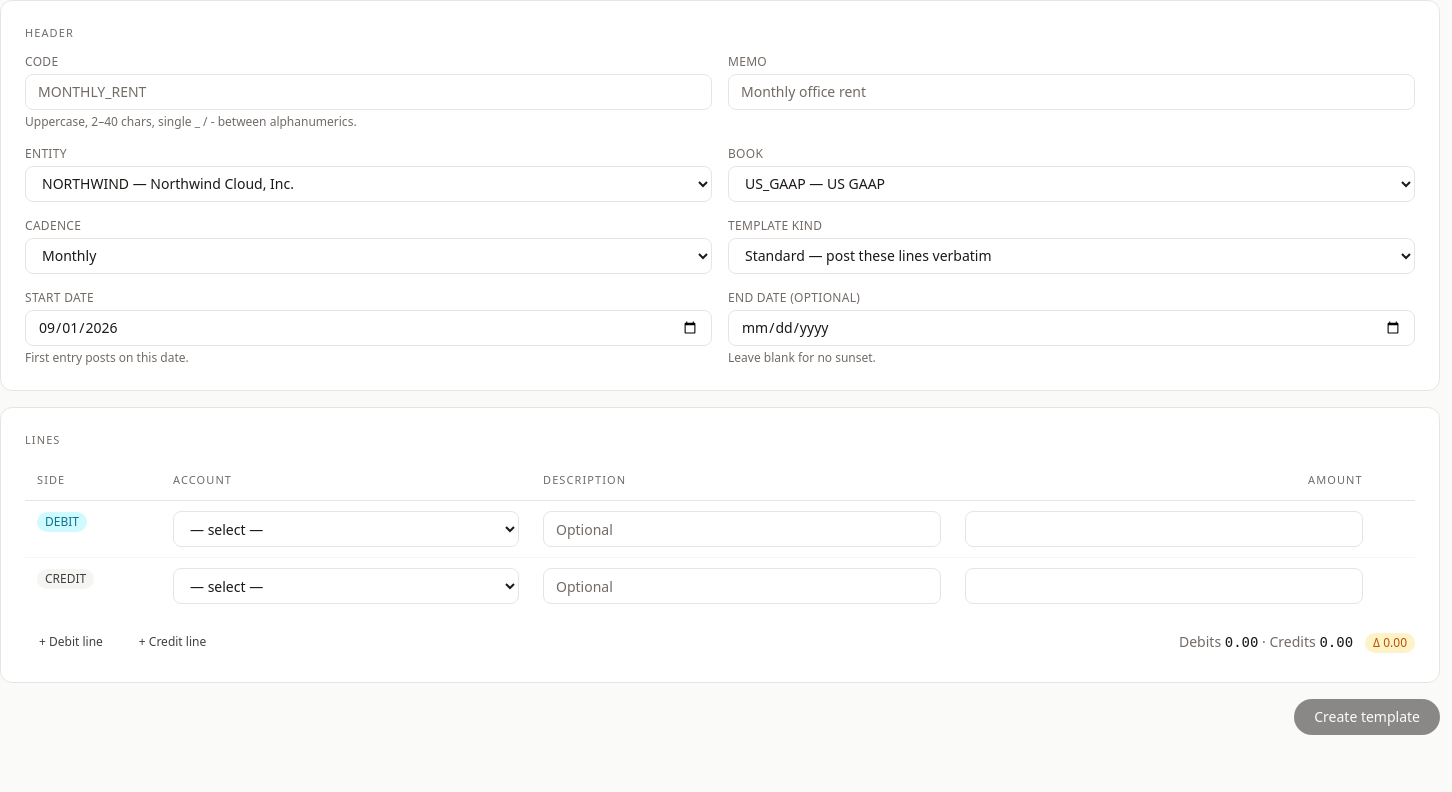
Test case: new recurring template — ALLOCATION mode › stays disabled while the percents do not total 100
Select "Allocation — split a source account by %" in the dropdown labelled "Template kind" at (1072, 256), box [728,238,1415,274]
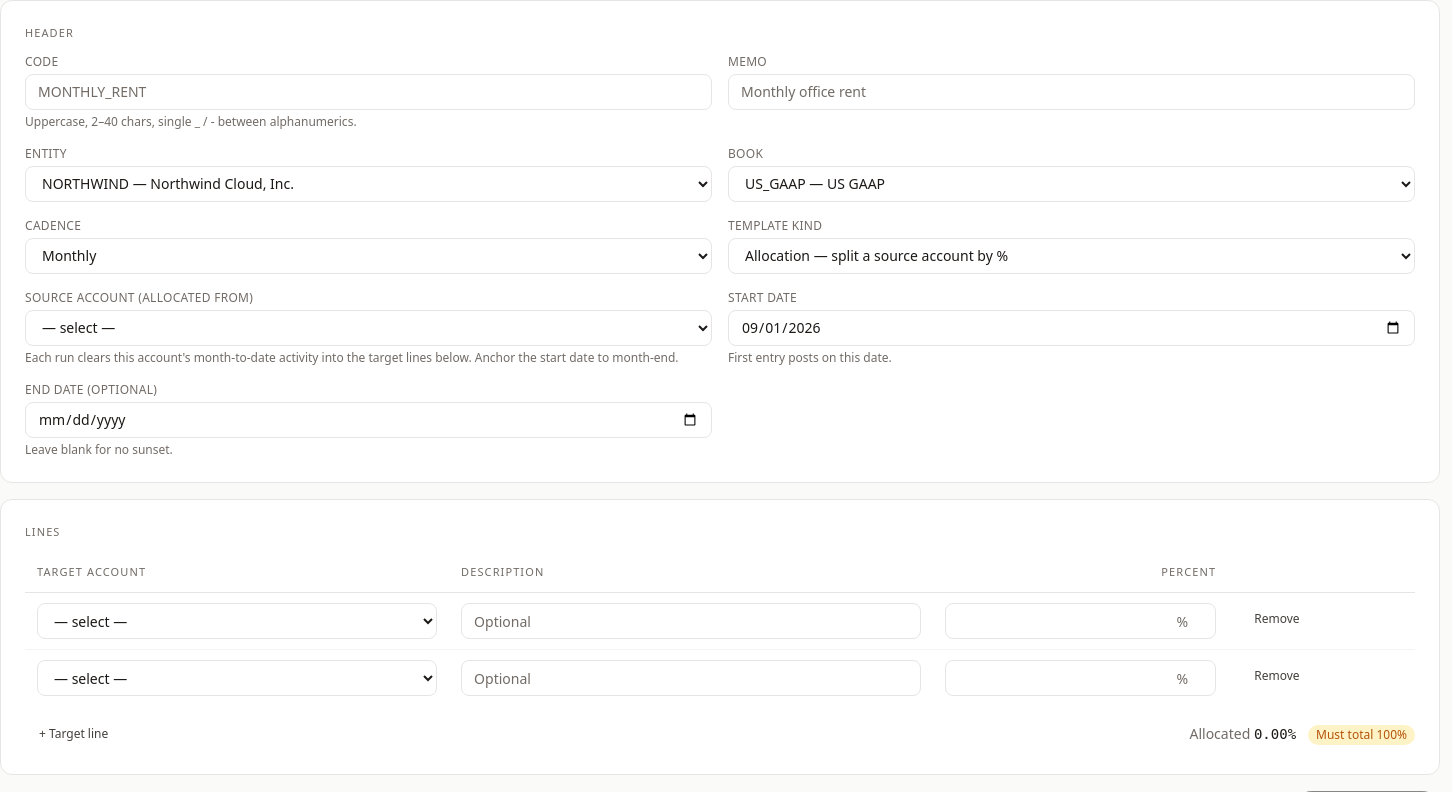
Select "6000 — Overhead pool" in the dropdown labelled "Source account (allocated FROM)" at (368, 328), box [25,310,712,346]
Select "7000 — Dept 1" in the 6th dropdown at (237, 621), box [37,603,437,639]
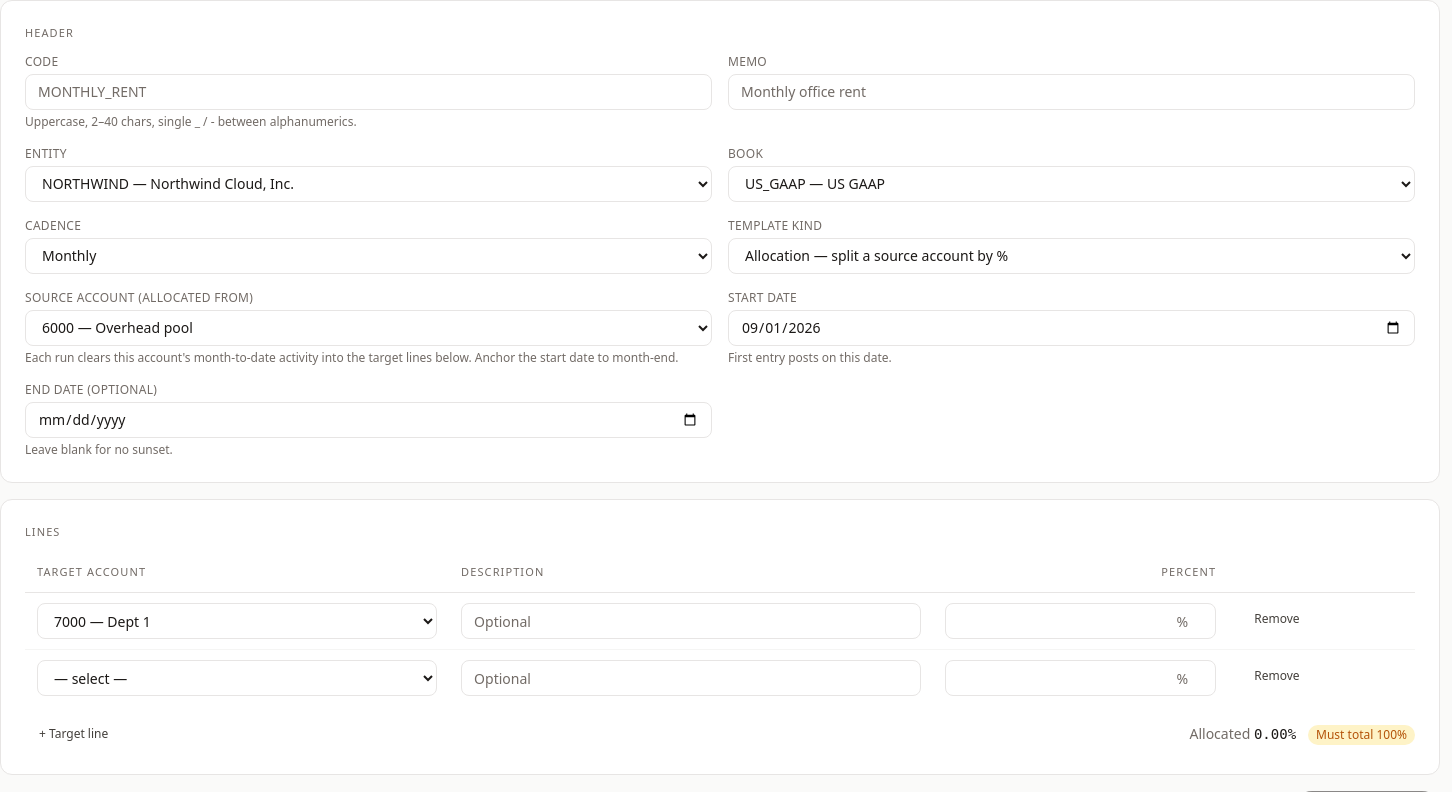
Type "60" into the 1st number field with placeholder "%" at (1080, 621), box [945,603,1216,639]
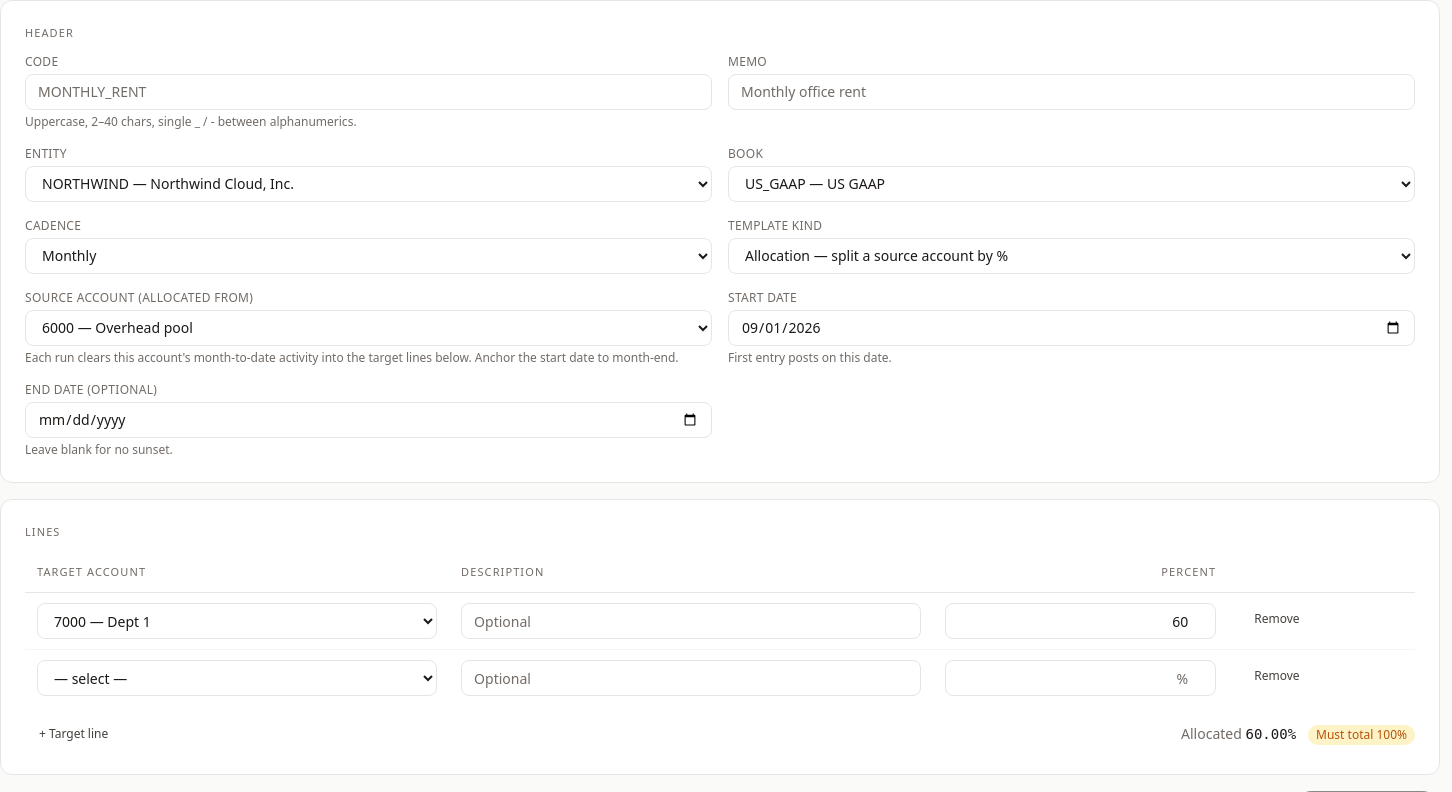
Select "8000 — Dept 2" in the 7th dropdown at (237, 678), box [37,660,437,696]
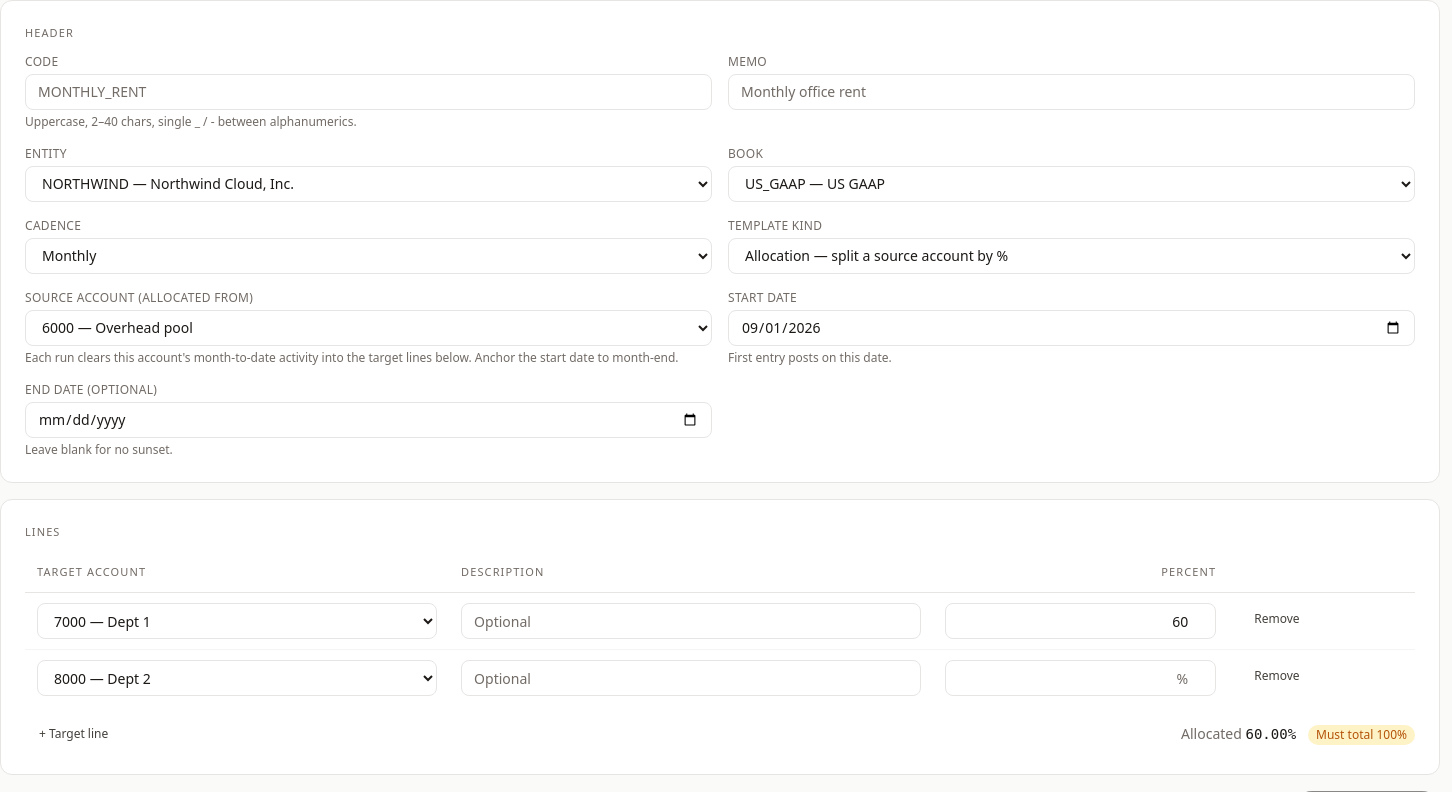
Type "40" into the number field with placeholder "%" at (1080, 678), box [945,660,1216,696]
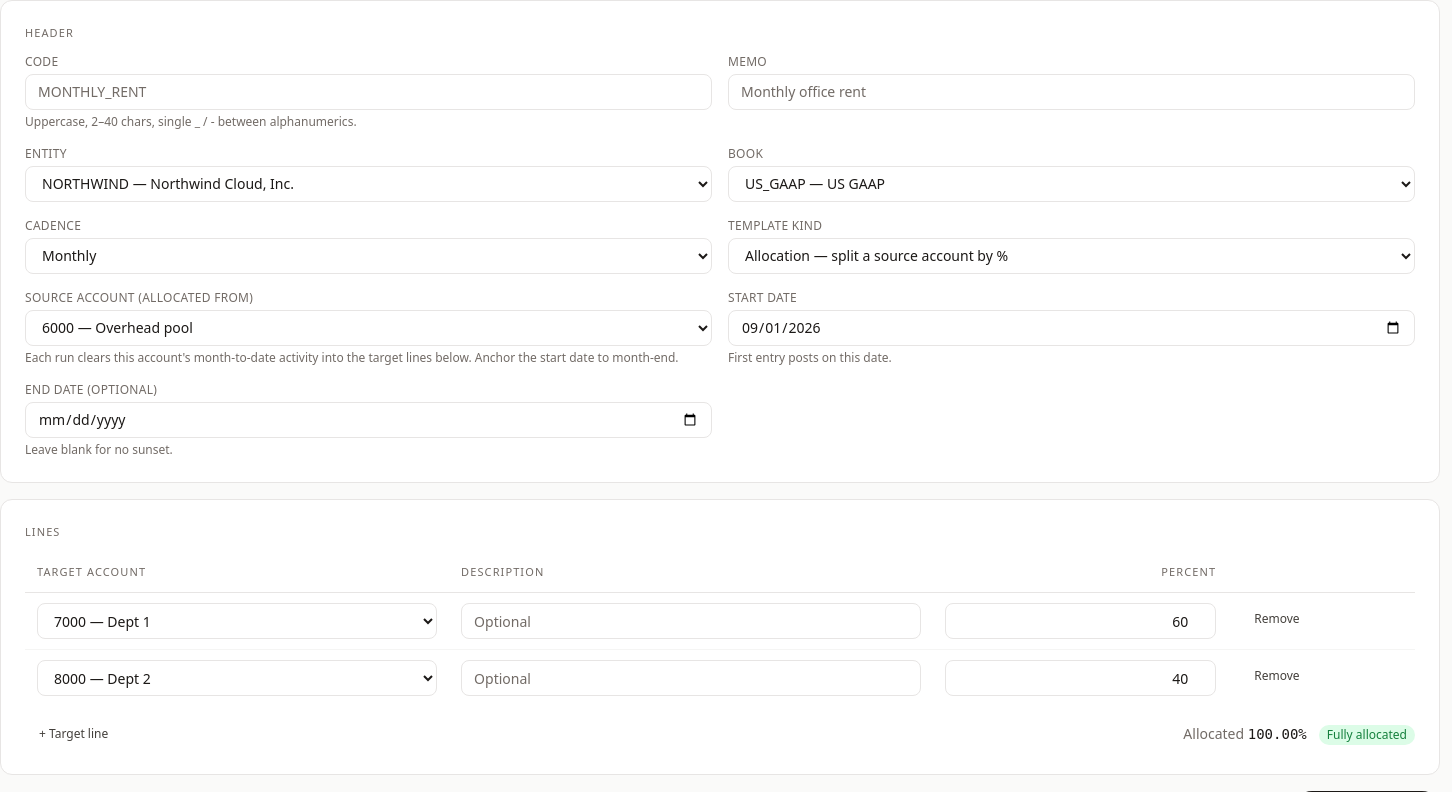
Replace the text in the 2nd number field with "30" at (1080, 678), box [945,660,1216,696]
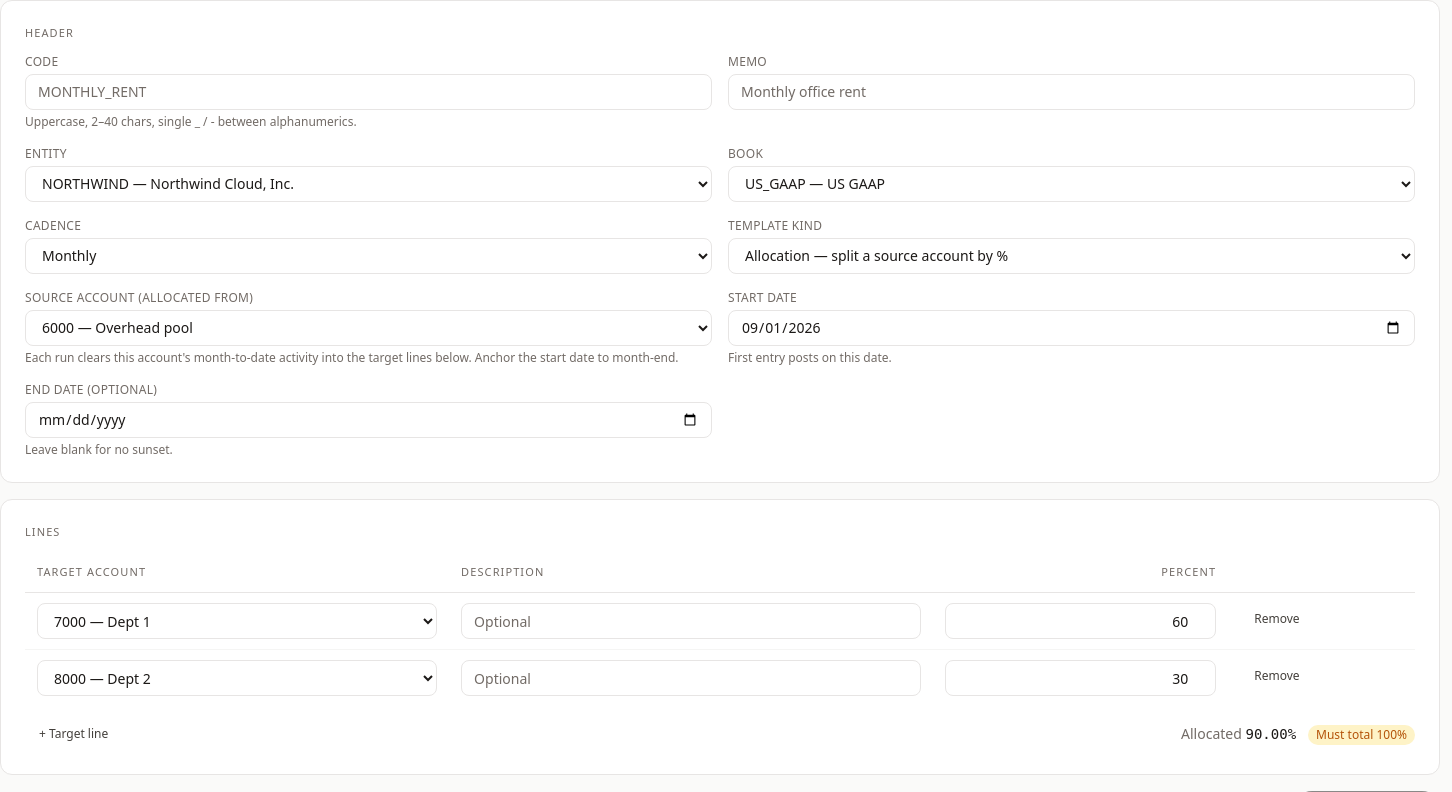
Now the text "Must total 100%" is shown, box [1308,724,1415,744]
